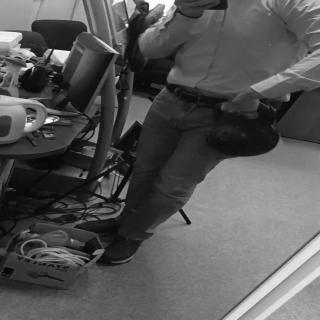kettlebell: (202, 101, 284, 160)
